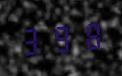eight: (75, 18, 102, 52)
nine: (47, 21, 74, 54)
three: (18, 23, 45, 57)
